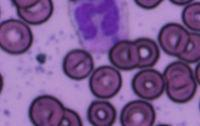N: (69, 0, 130, 54)
